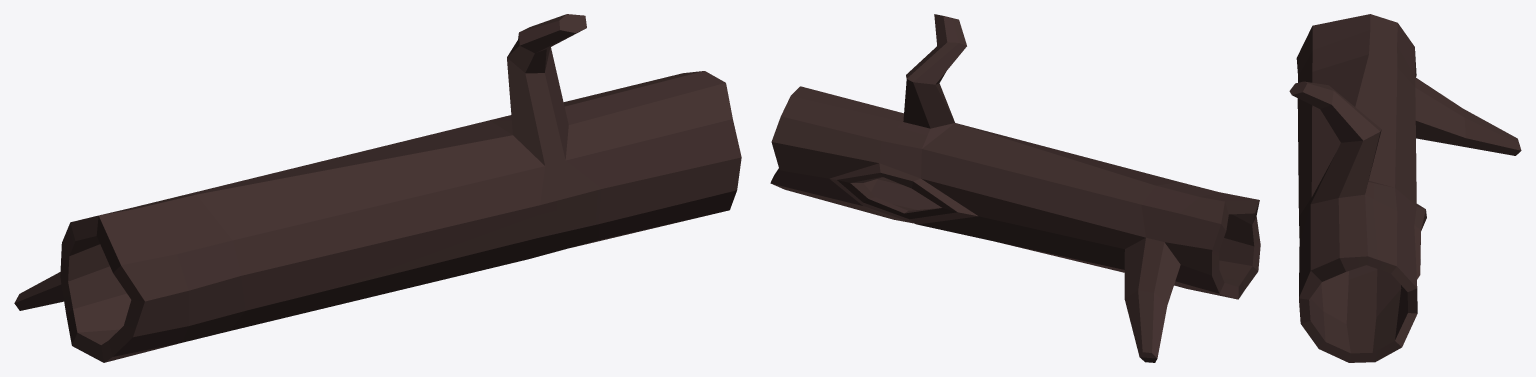
Rendered from 2. Gigant Fall Tree.fbx.
The picture shows the model from 3 angles, left to right: view 1: azimuth 30°, elevation 25°; view 2: azimuth 150°, elevation 25°; view 3: azimuth 270°, elevation 25°; orthographic projection. The views are drawn at different scales.
Parts seen in each view (by area): view 1: 2. Gigant Fall Tree; view 2: 2. Gigant Fall Tree; view 3: 2. Gigant Fall Tree.
Part boxes in pixels (left/top/right/bottom): 2. Gigant Fall Tree: left=14, top=14, right=741, bottom=362; 2. Gigant Fall Tree: left=770, top=14, right=1260, bottom=362; 2. Gigant Fall Tree: left=1289, top=14, right=1521, bottom=362.
Bounding box in the file's own units: 1153 × 500 × 447.
